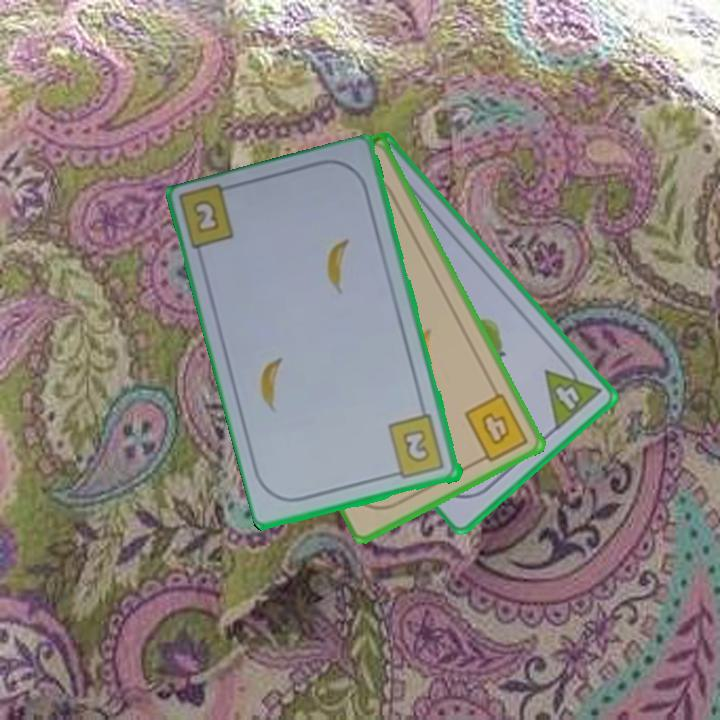2b: (385, 411, 448, 482), (187, 196, 223, 237)
4b: (461, 389, 532, 467)
4p: (541, 353, 605, 433)
